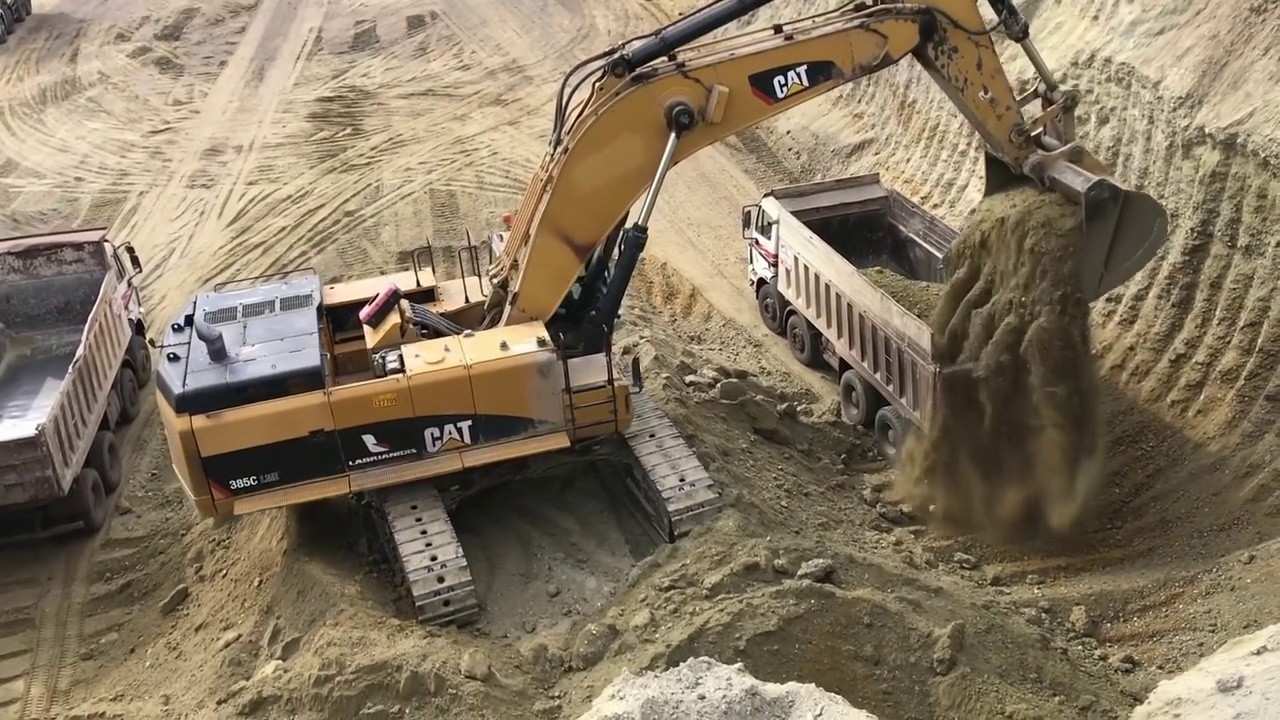excavator: (154, 1, 1169, 631)
truck: (739, 166, 1048, 463), (3, 219, 148, 540)
